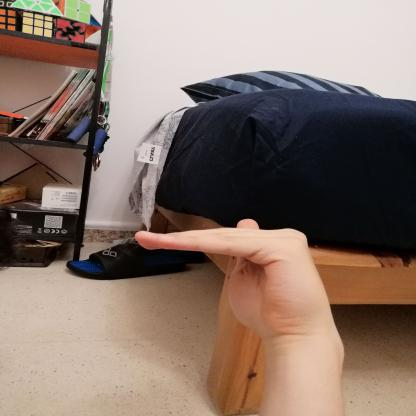KHAA: (115, 206, 354, 346)
